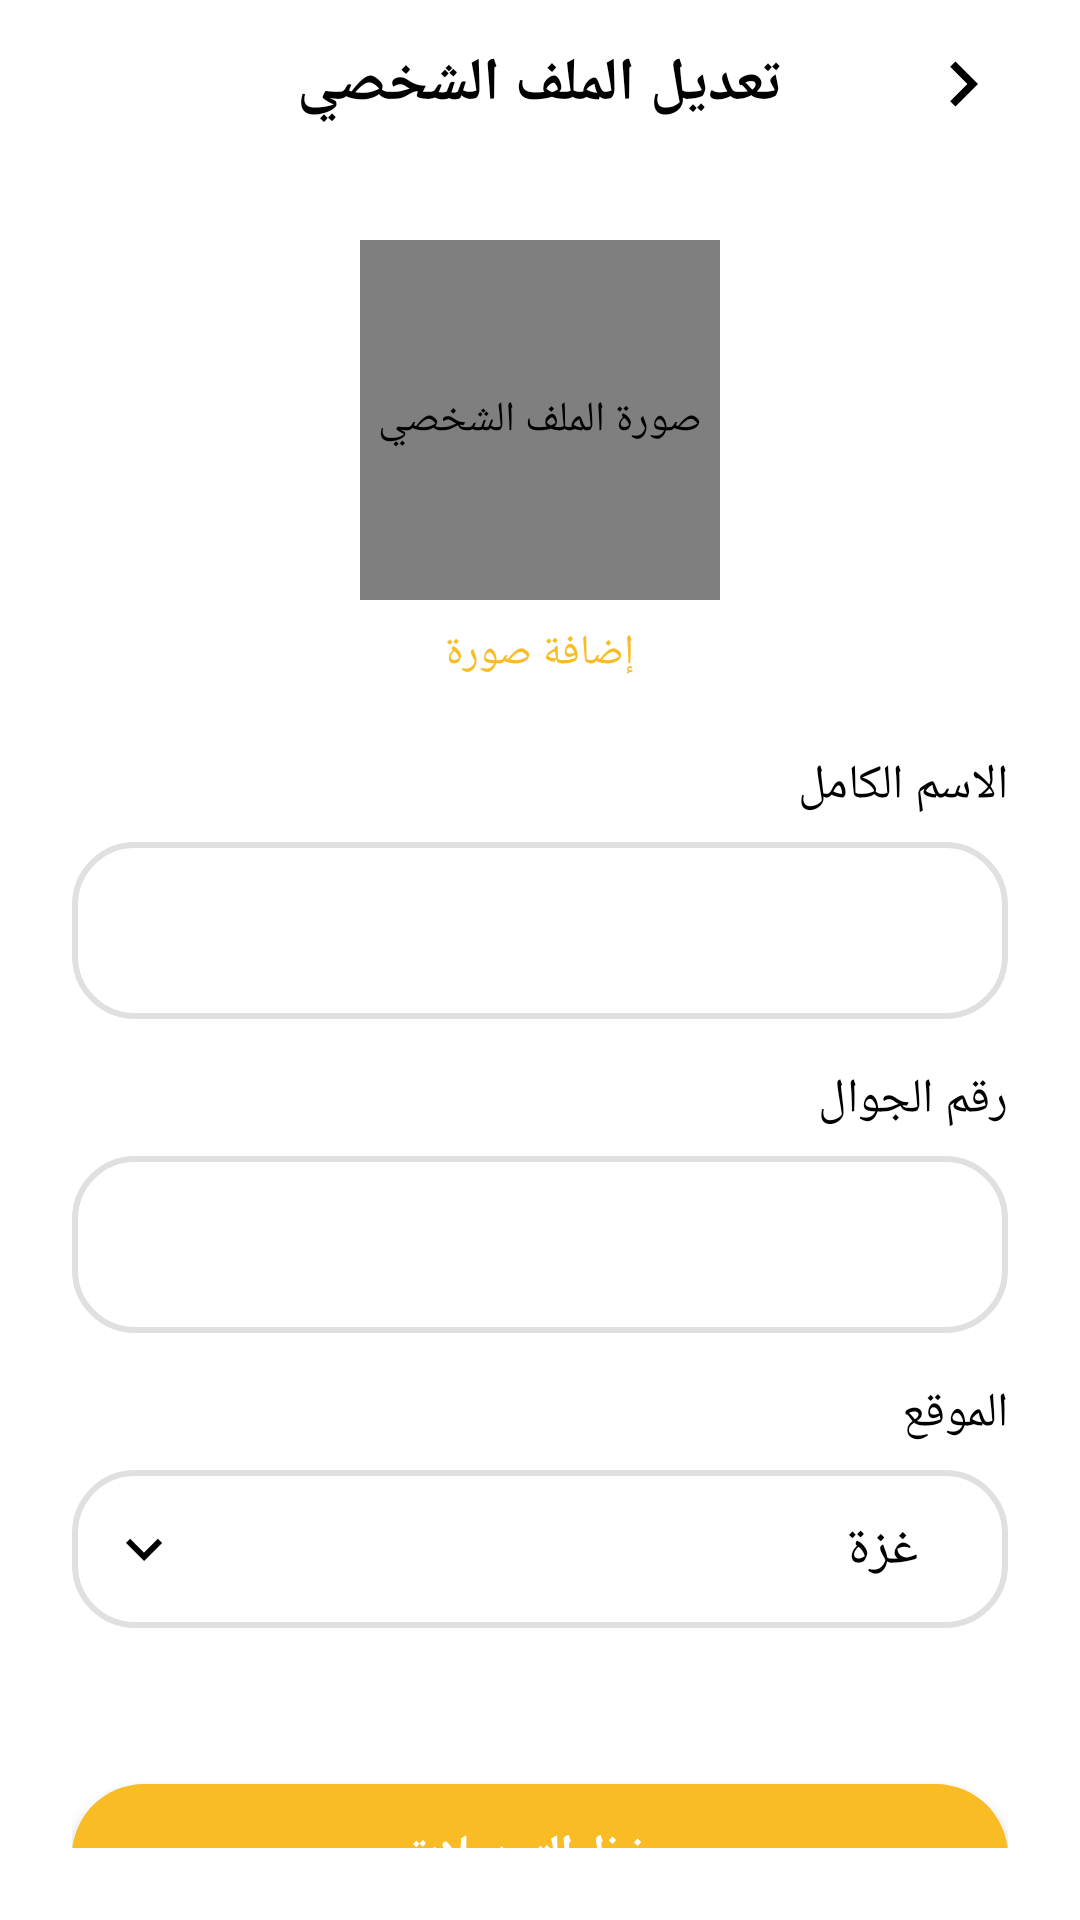

Point at icon controls on the screen. Image size 1080 x 1920, points as [x,y].
keyboard arrow down: [144,1550]
رجوع: [964,84]
